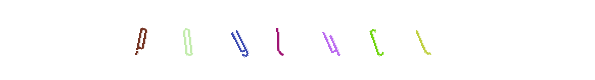0: (190, 0, 270, 80)
4: (257, 0, 337, 80)
C: (284, 0, 364, 80)
L: (234, 0, 314, 80), (355, 0, 435, 80)
P: (101, 0, 181, 80)
Y: (200, 0, 280, 80)
